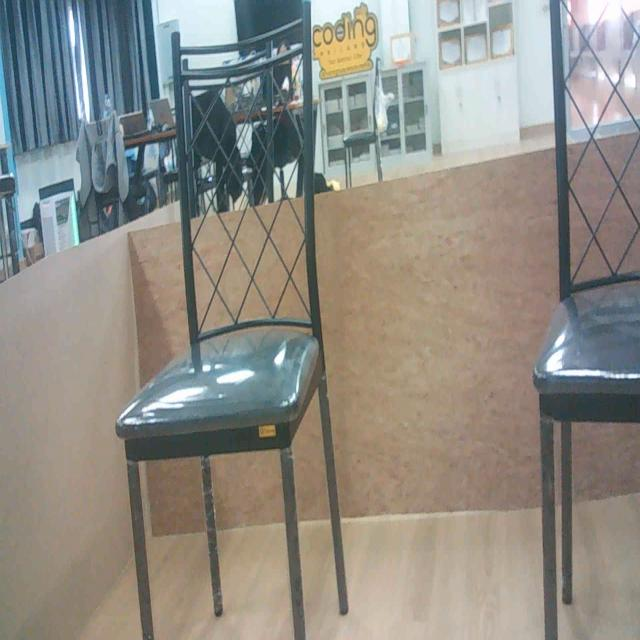emtpy: (140, 34, 342, 640), (521, 0, 640, 640)
